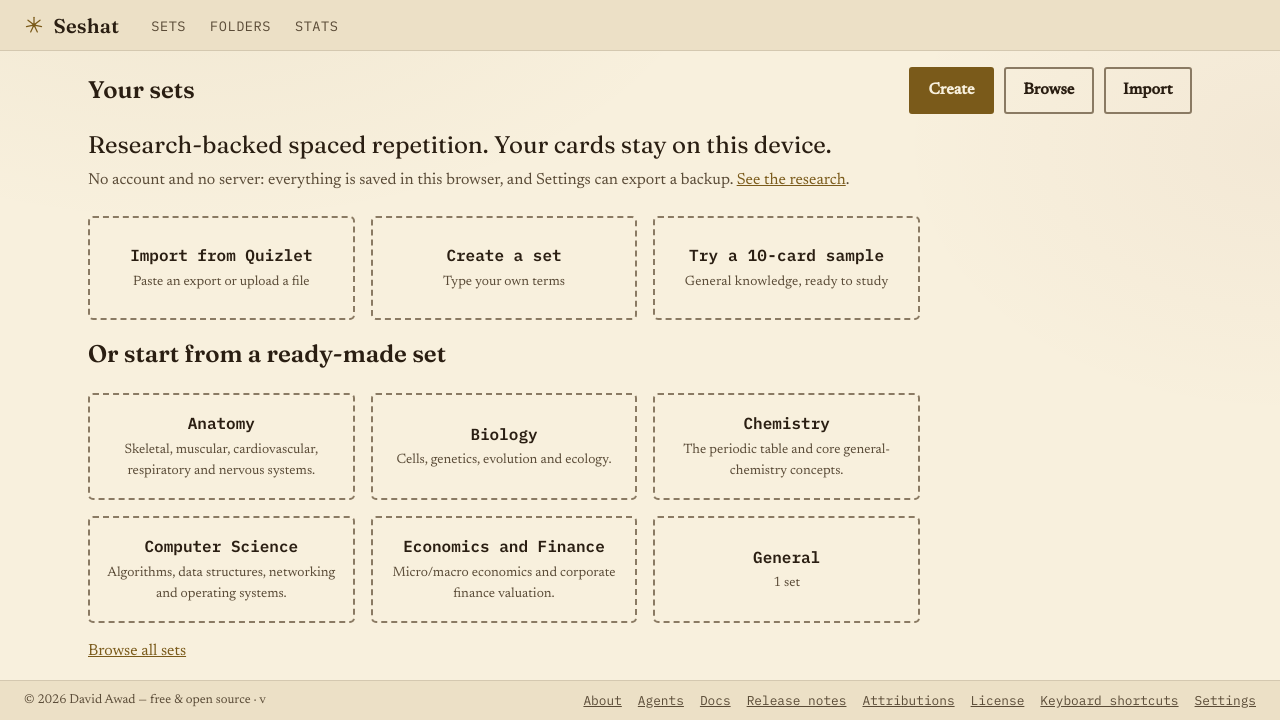
it: command palette › filters as you type, with keywords, and shows an empty state and result count
Type keys "{Control>}k{/Control}"
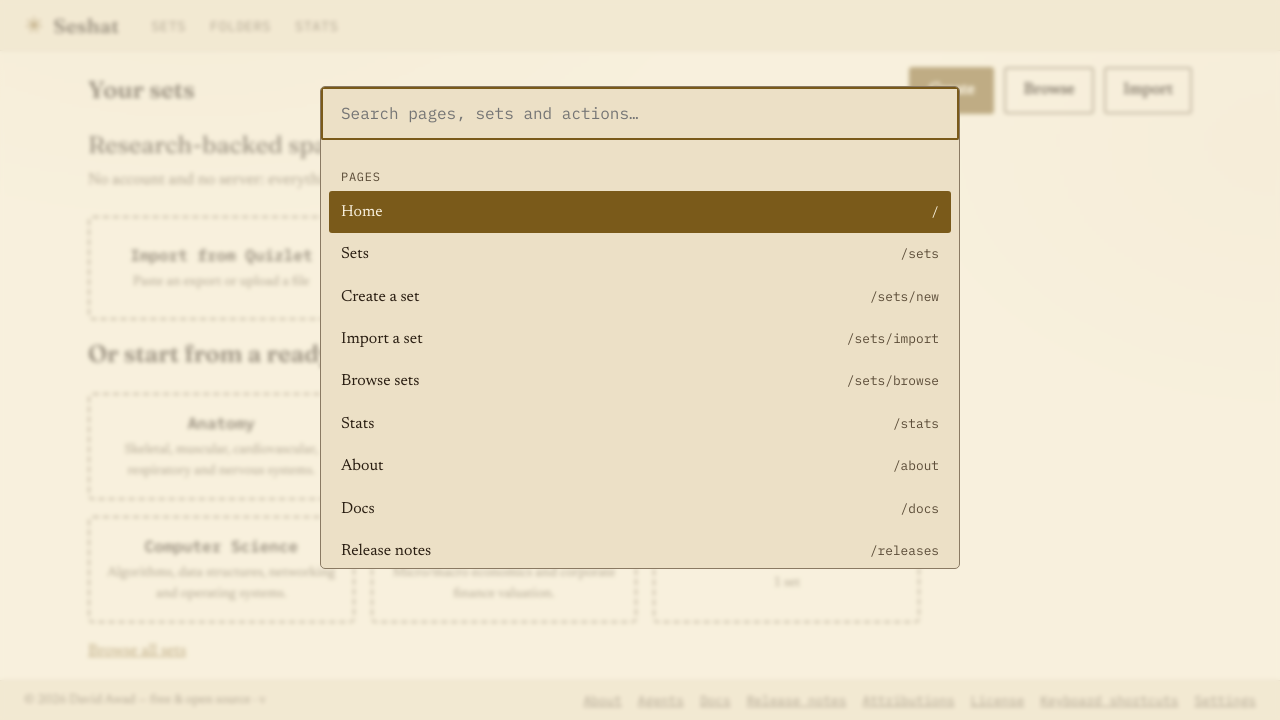
Type "preferences" into the dropdown with test id "palette-input" at [640, 114], box x1=321 y1=87 x2=959 y2=140
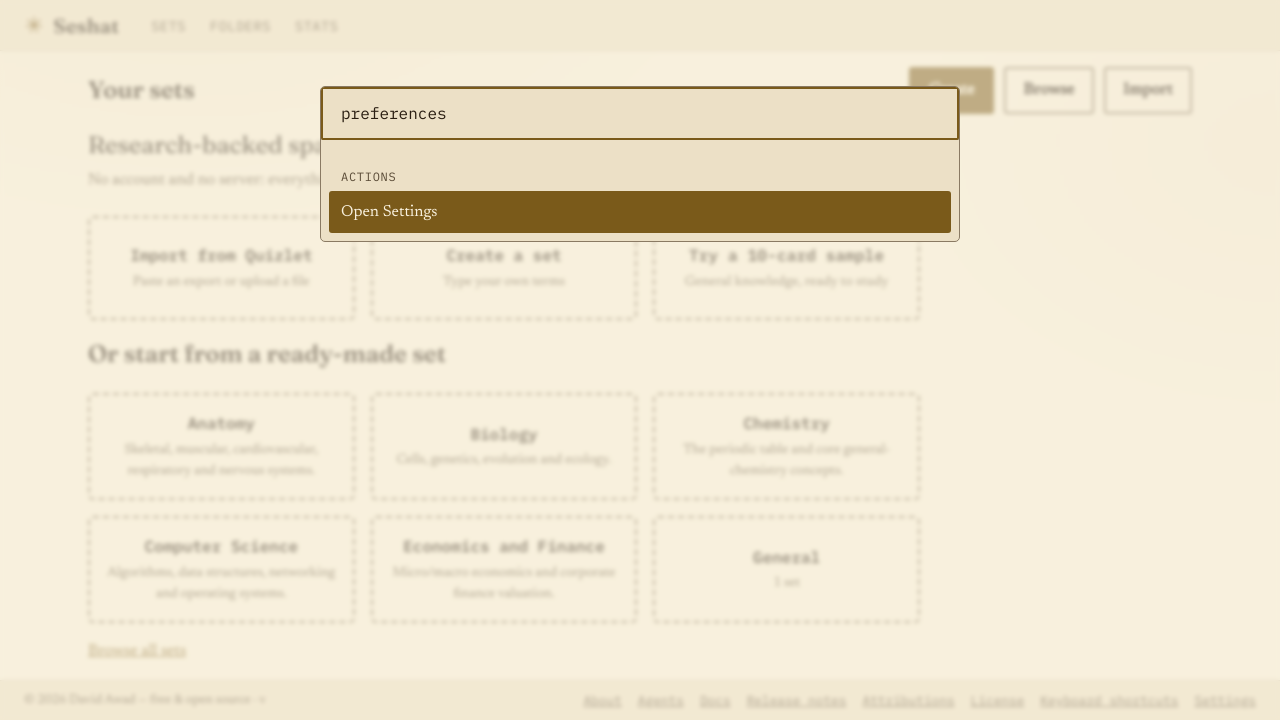
Replace the text in the dropdown with test id "palette-input" with "zzzzqqq" at [640, 114], box x1=321 y1=87 x2=959 y2=140
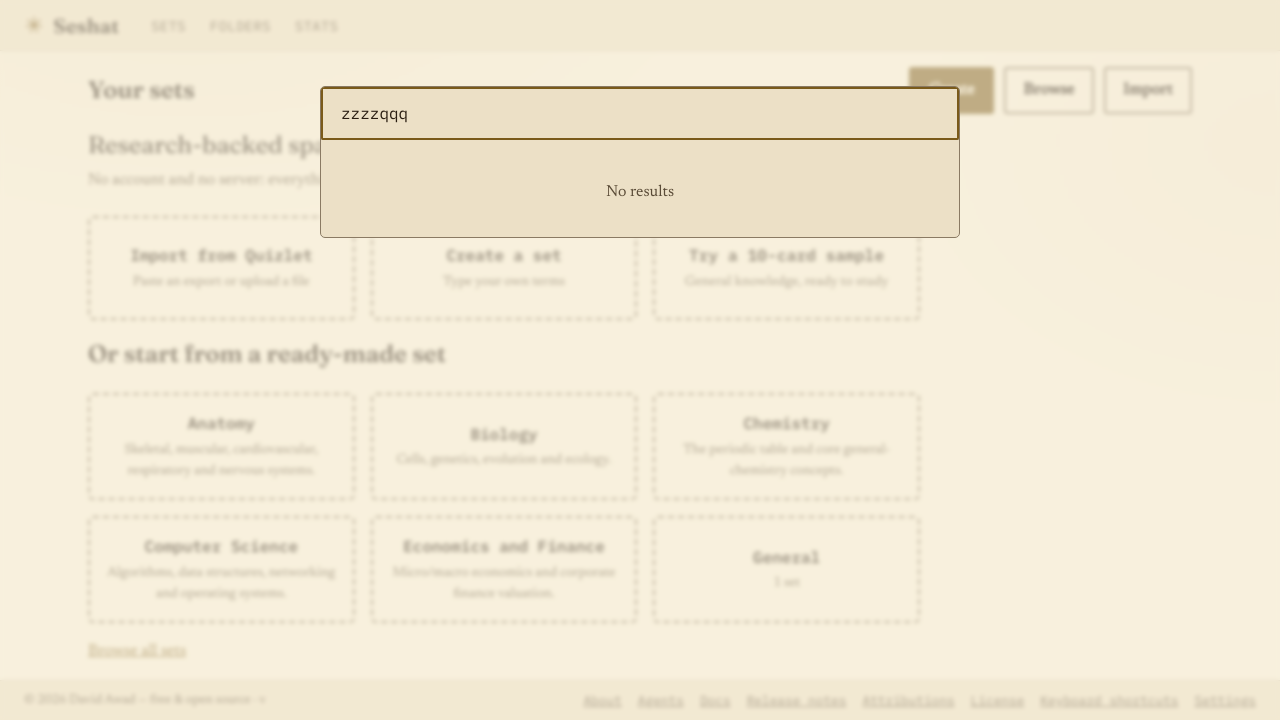
expect the text with test id "palette-empty" reads "No results": met, box x1=606 y1=184 x2=674 y2=200
